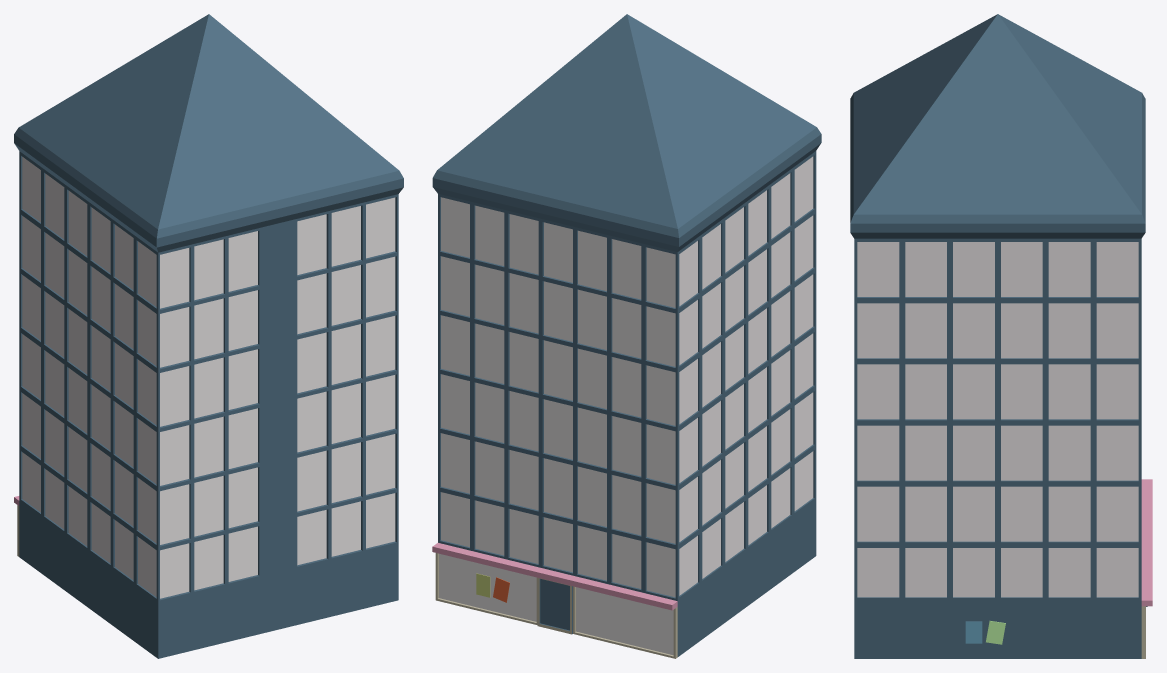
Rendered from house 2.fbx.
3 renders of one model, left to right at view 1: azimuth 30°, elevation 25°; view 2: azimuth 150°, elevation 25°; view 3: azimuth 270°, elevation 25°, orthographic. The views are drawn at different scales.
Visible parts, largest first — view 1: House 2; view 2: House 2; view 3: House 2.
Part boxes in pixels (x1,y1,x2,y2): House 2: (14,14,403,658); House 2: (432,14,821,658); House 2: (850,14,1152,658).
Size of the model in its own units: 206 by 449 by 211.
